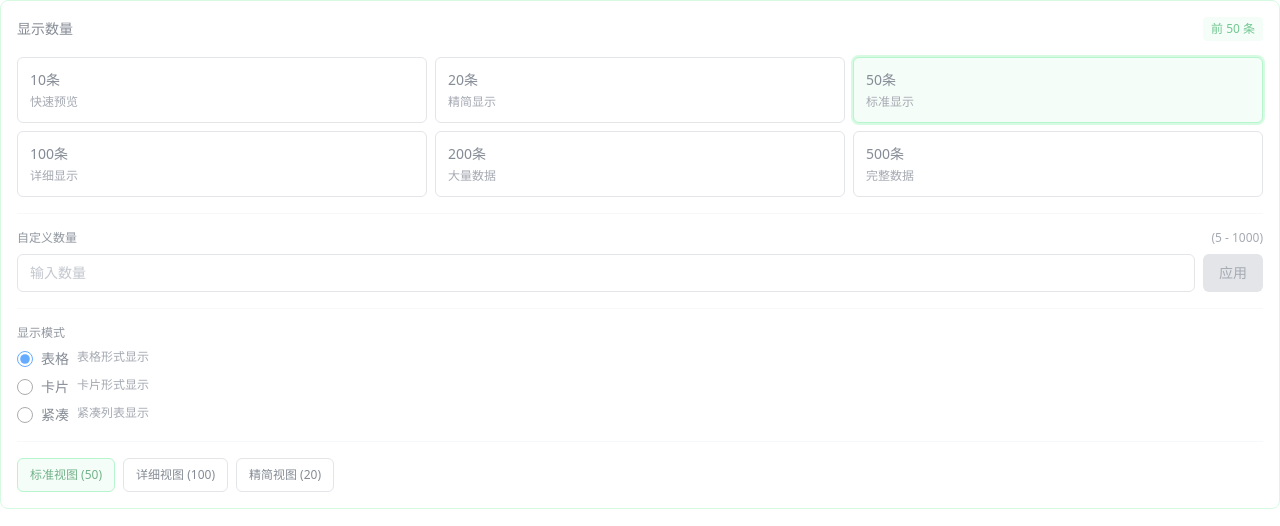
Test case: HotWordLimitSelector › 预设数量选择功能 › 应该在选择预设时更新显示数量
Click the button with class "limit-button" showing "20条 精简显示".
click(463, 80)  # box top-left (435, 57), bottom-right (845, 123)
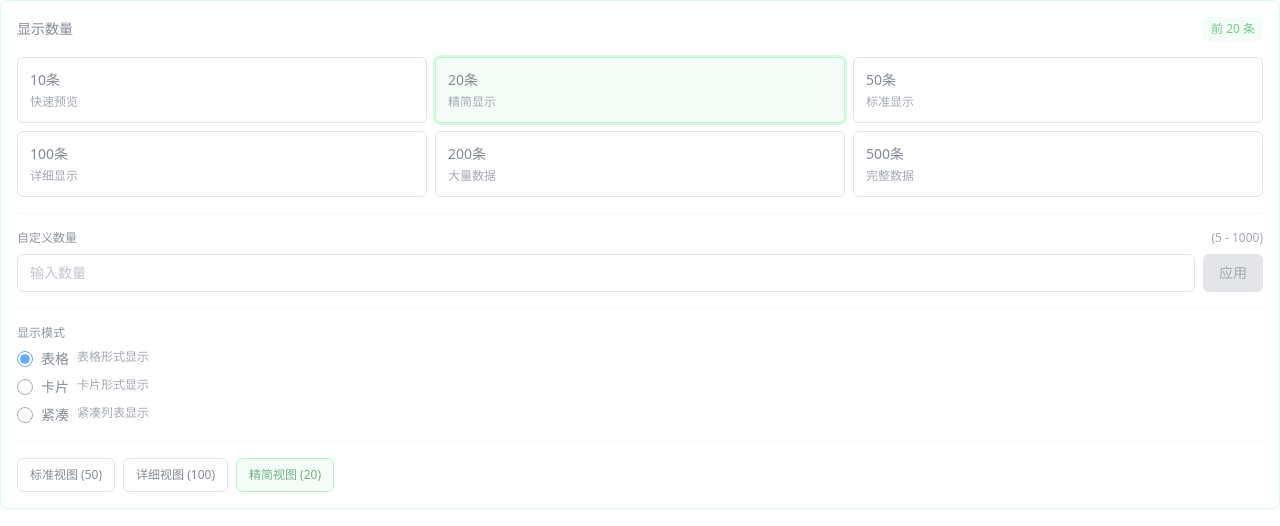
Expected: the text with class "limit-display" reads "前 20 条", top-left (1211, 20), bottom-right (1255, 37)
